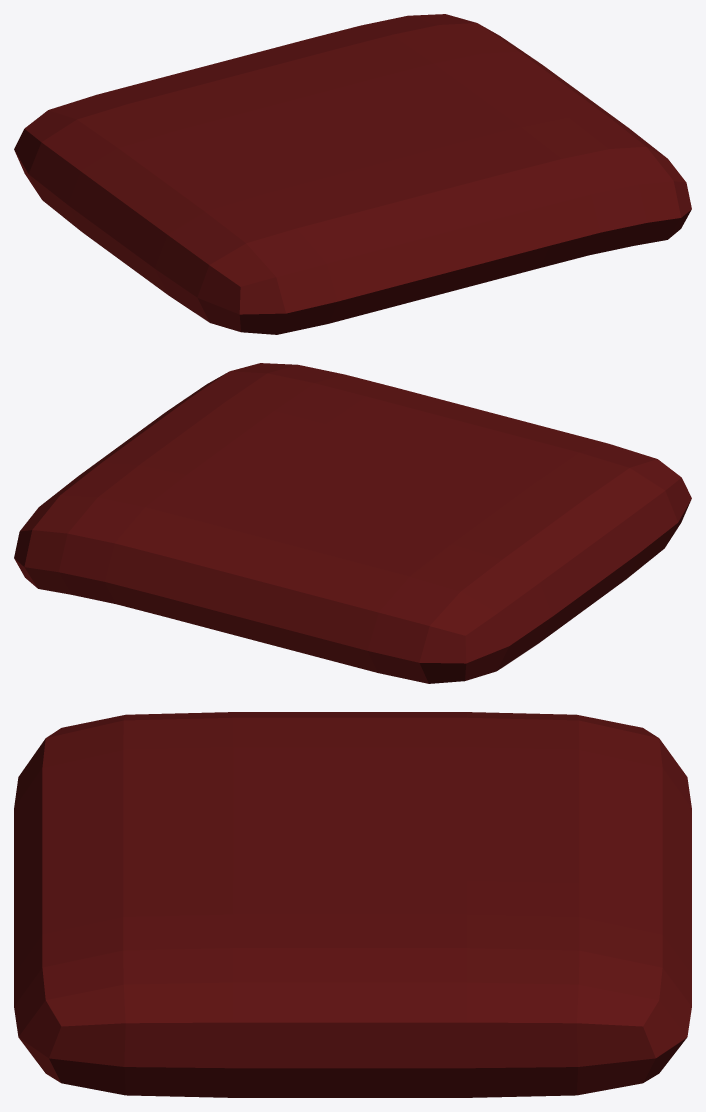
File: Cushion.fbx
3 views of the same model, one above another, from view 1: azimuth 30°, elevation 25°; view 2: azimuth 150°, elevation 25°; view 3: azimuth 270°, elevation 25° (orthographic). The views are drawn at different scales.
Visible parts, largest first — view 1: Cube.004; view 2: Cube.004; view 3: Cube.004.
Part boxes in pixels (bbox=[...]): Cube.004: bbox=[14, 14, 691, 334]; Cube.004: bbox=[14, 363, 691, 683]; Cube.004: bbox=[14, 712, 691, 1097].
Size of the model in its own units: 87.96 by 16.81 by 80.26.
